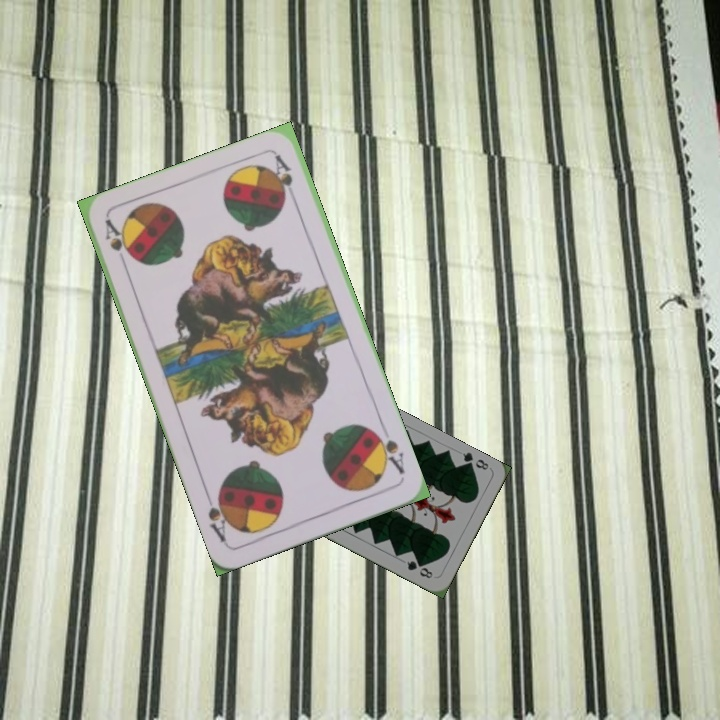G8: (458, 448, 491, 473)
SA: (100, 215, 134, 273), (369, 426, 407, 477)
